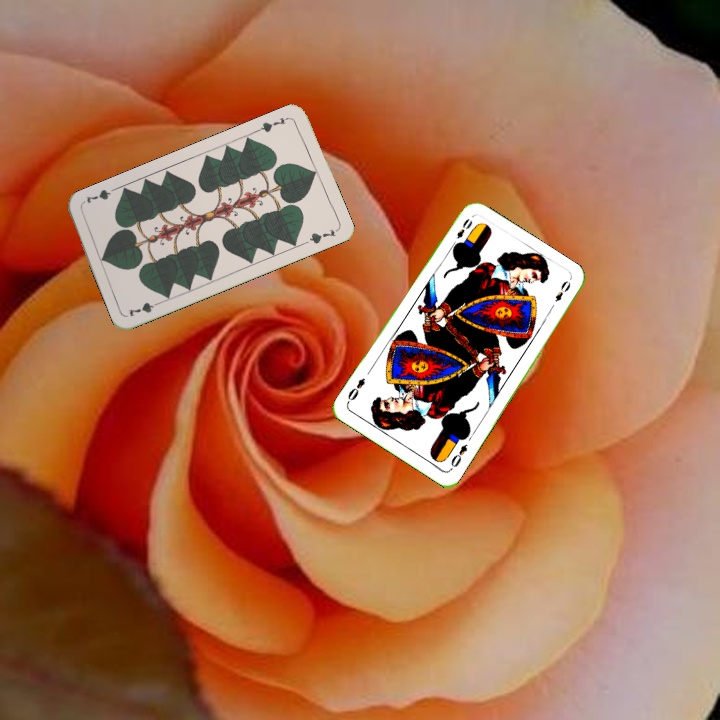EO: (447, 214, 475, 250), (446, 440, 470, 473)
G7: (124, 297, 164, 319), (253, 113, 293, 135)
